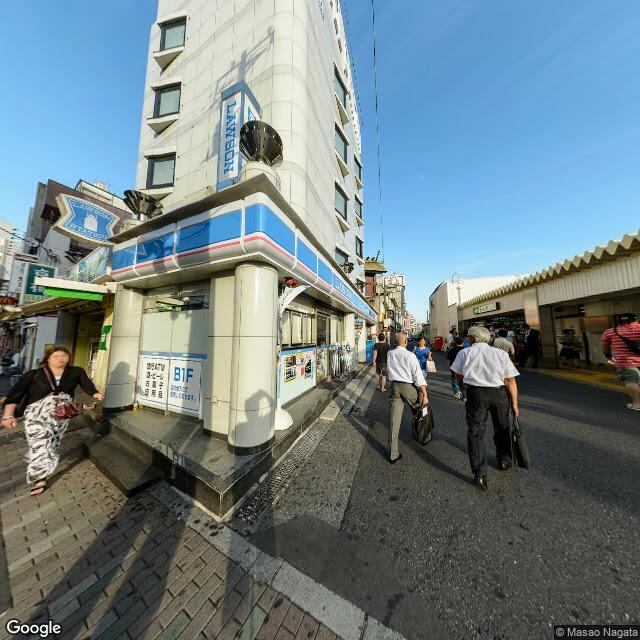lawson: (113, 187, 382, 325), (58, 188, 120, 246)
